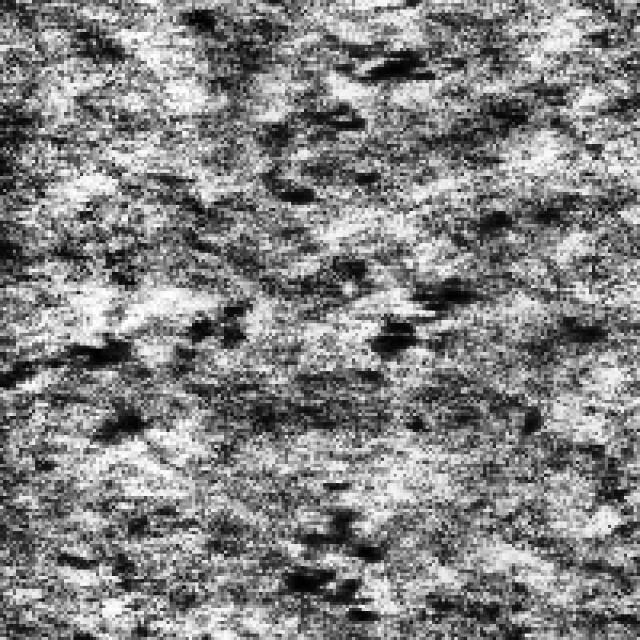Crazing: (64, 294, 243, 438), (278, 461, 384, 621), (358, 266, 474, 364)
